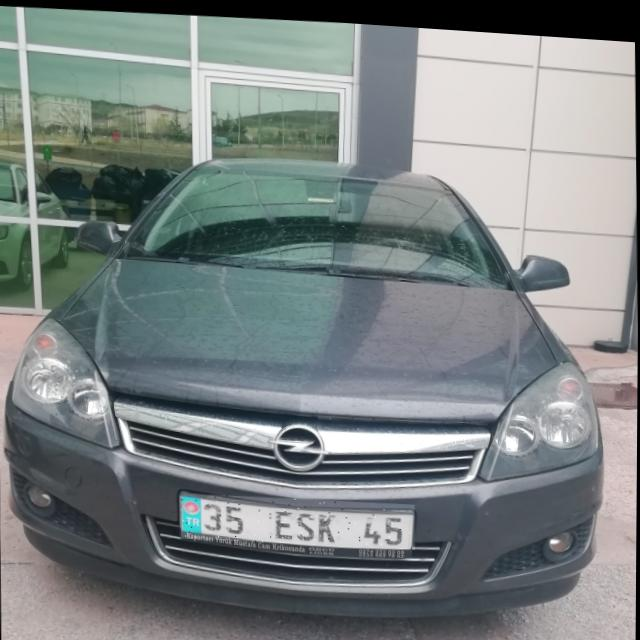license_plate: (180, 486, 416, 547)
